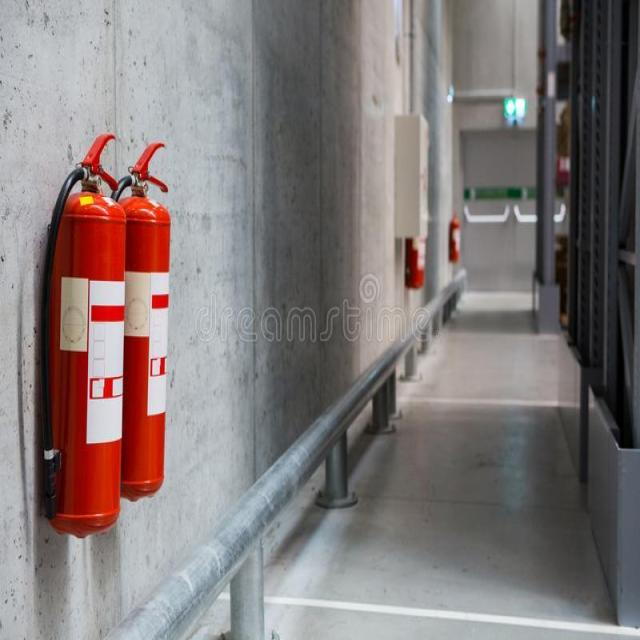fire_extinguisher: (32, 123, 129, 545), (105, 134, 178, 504), (398, 174, 430, 293), (444, 206, 464, 266)
